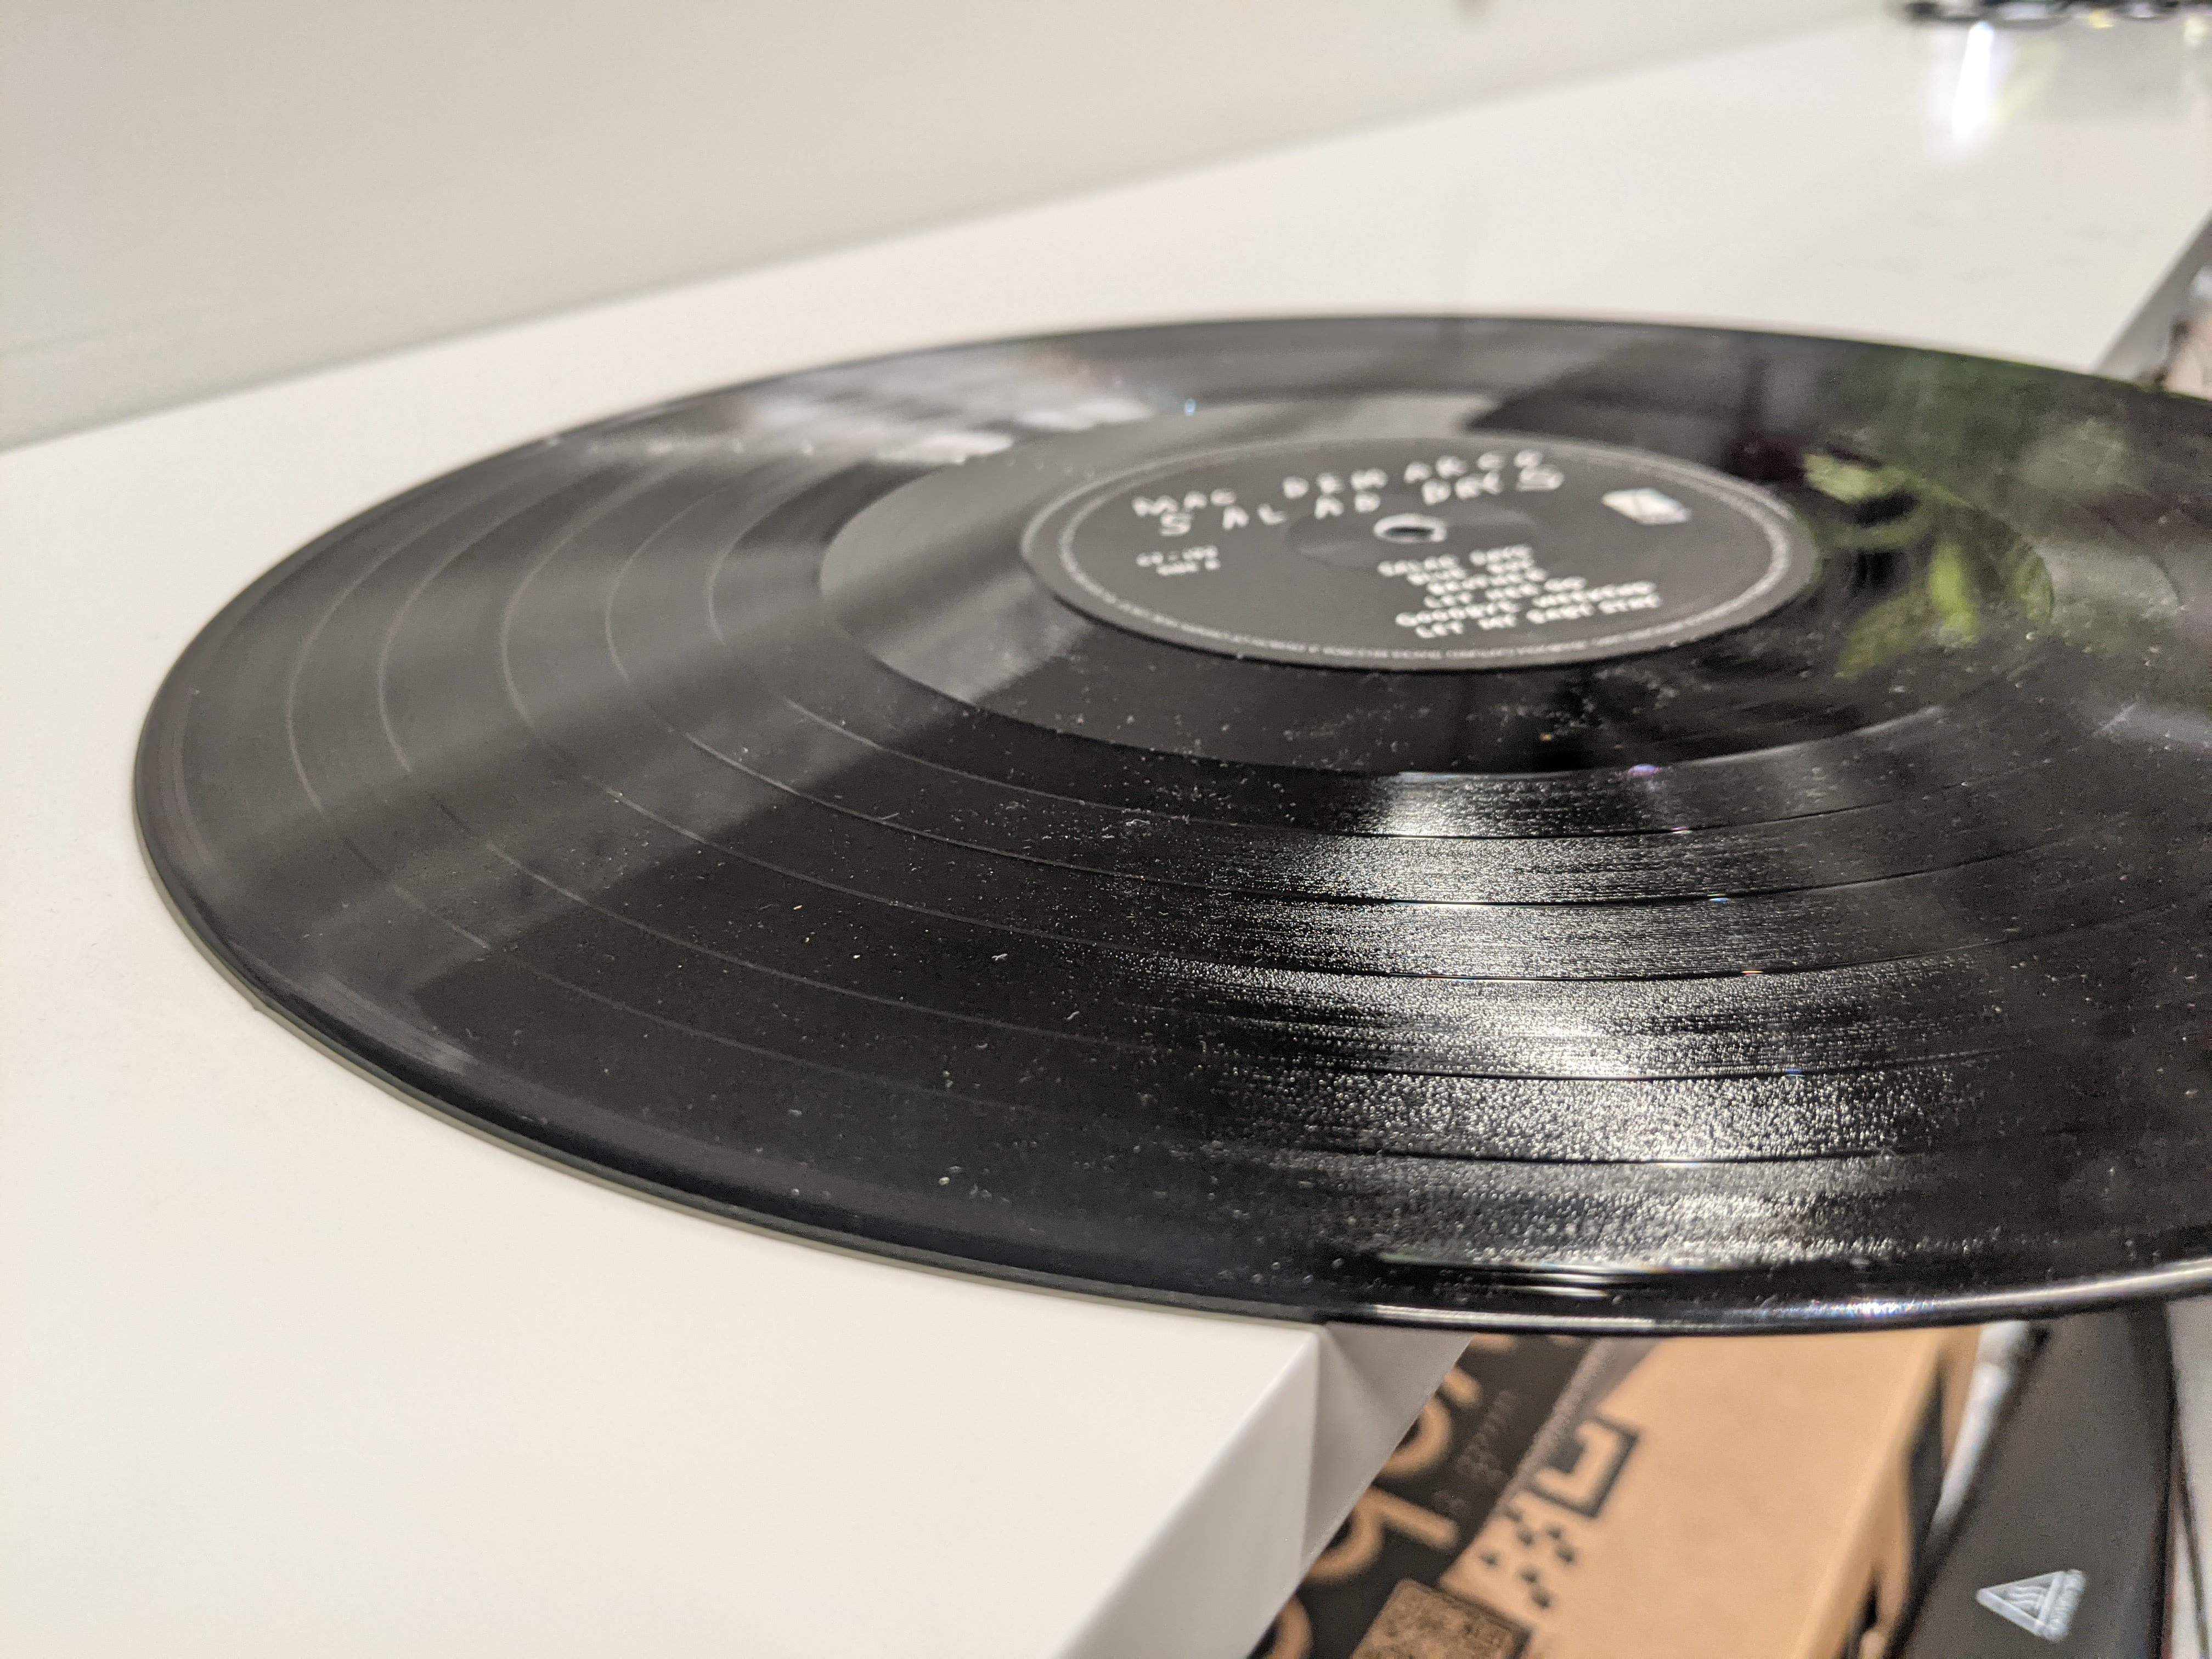song_edge: (277, 791, 402, 889), (716, 666, 862, 744), (364, 735, 484, 824), (496, 725, 622, 805), (596, 706, 735, 774)
